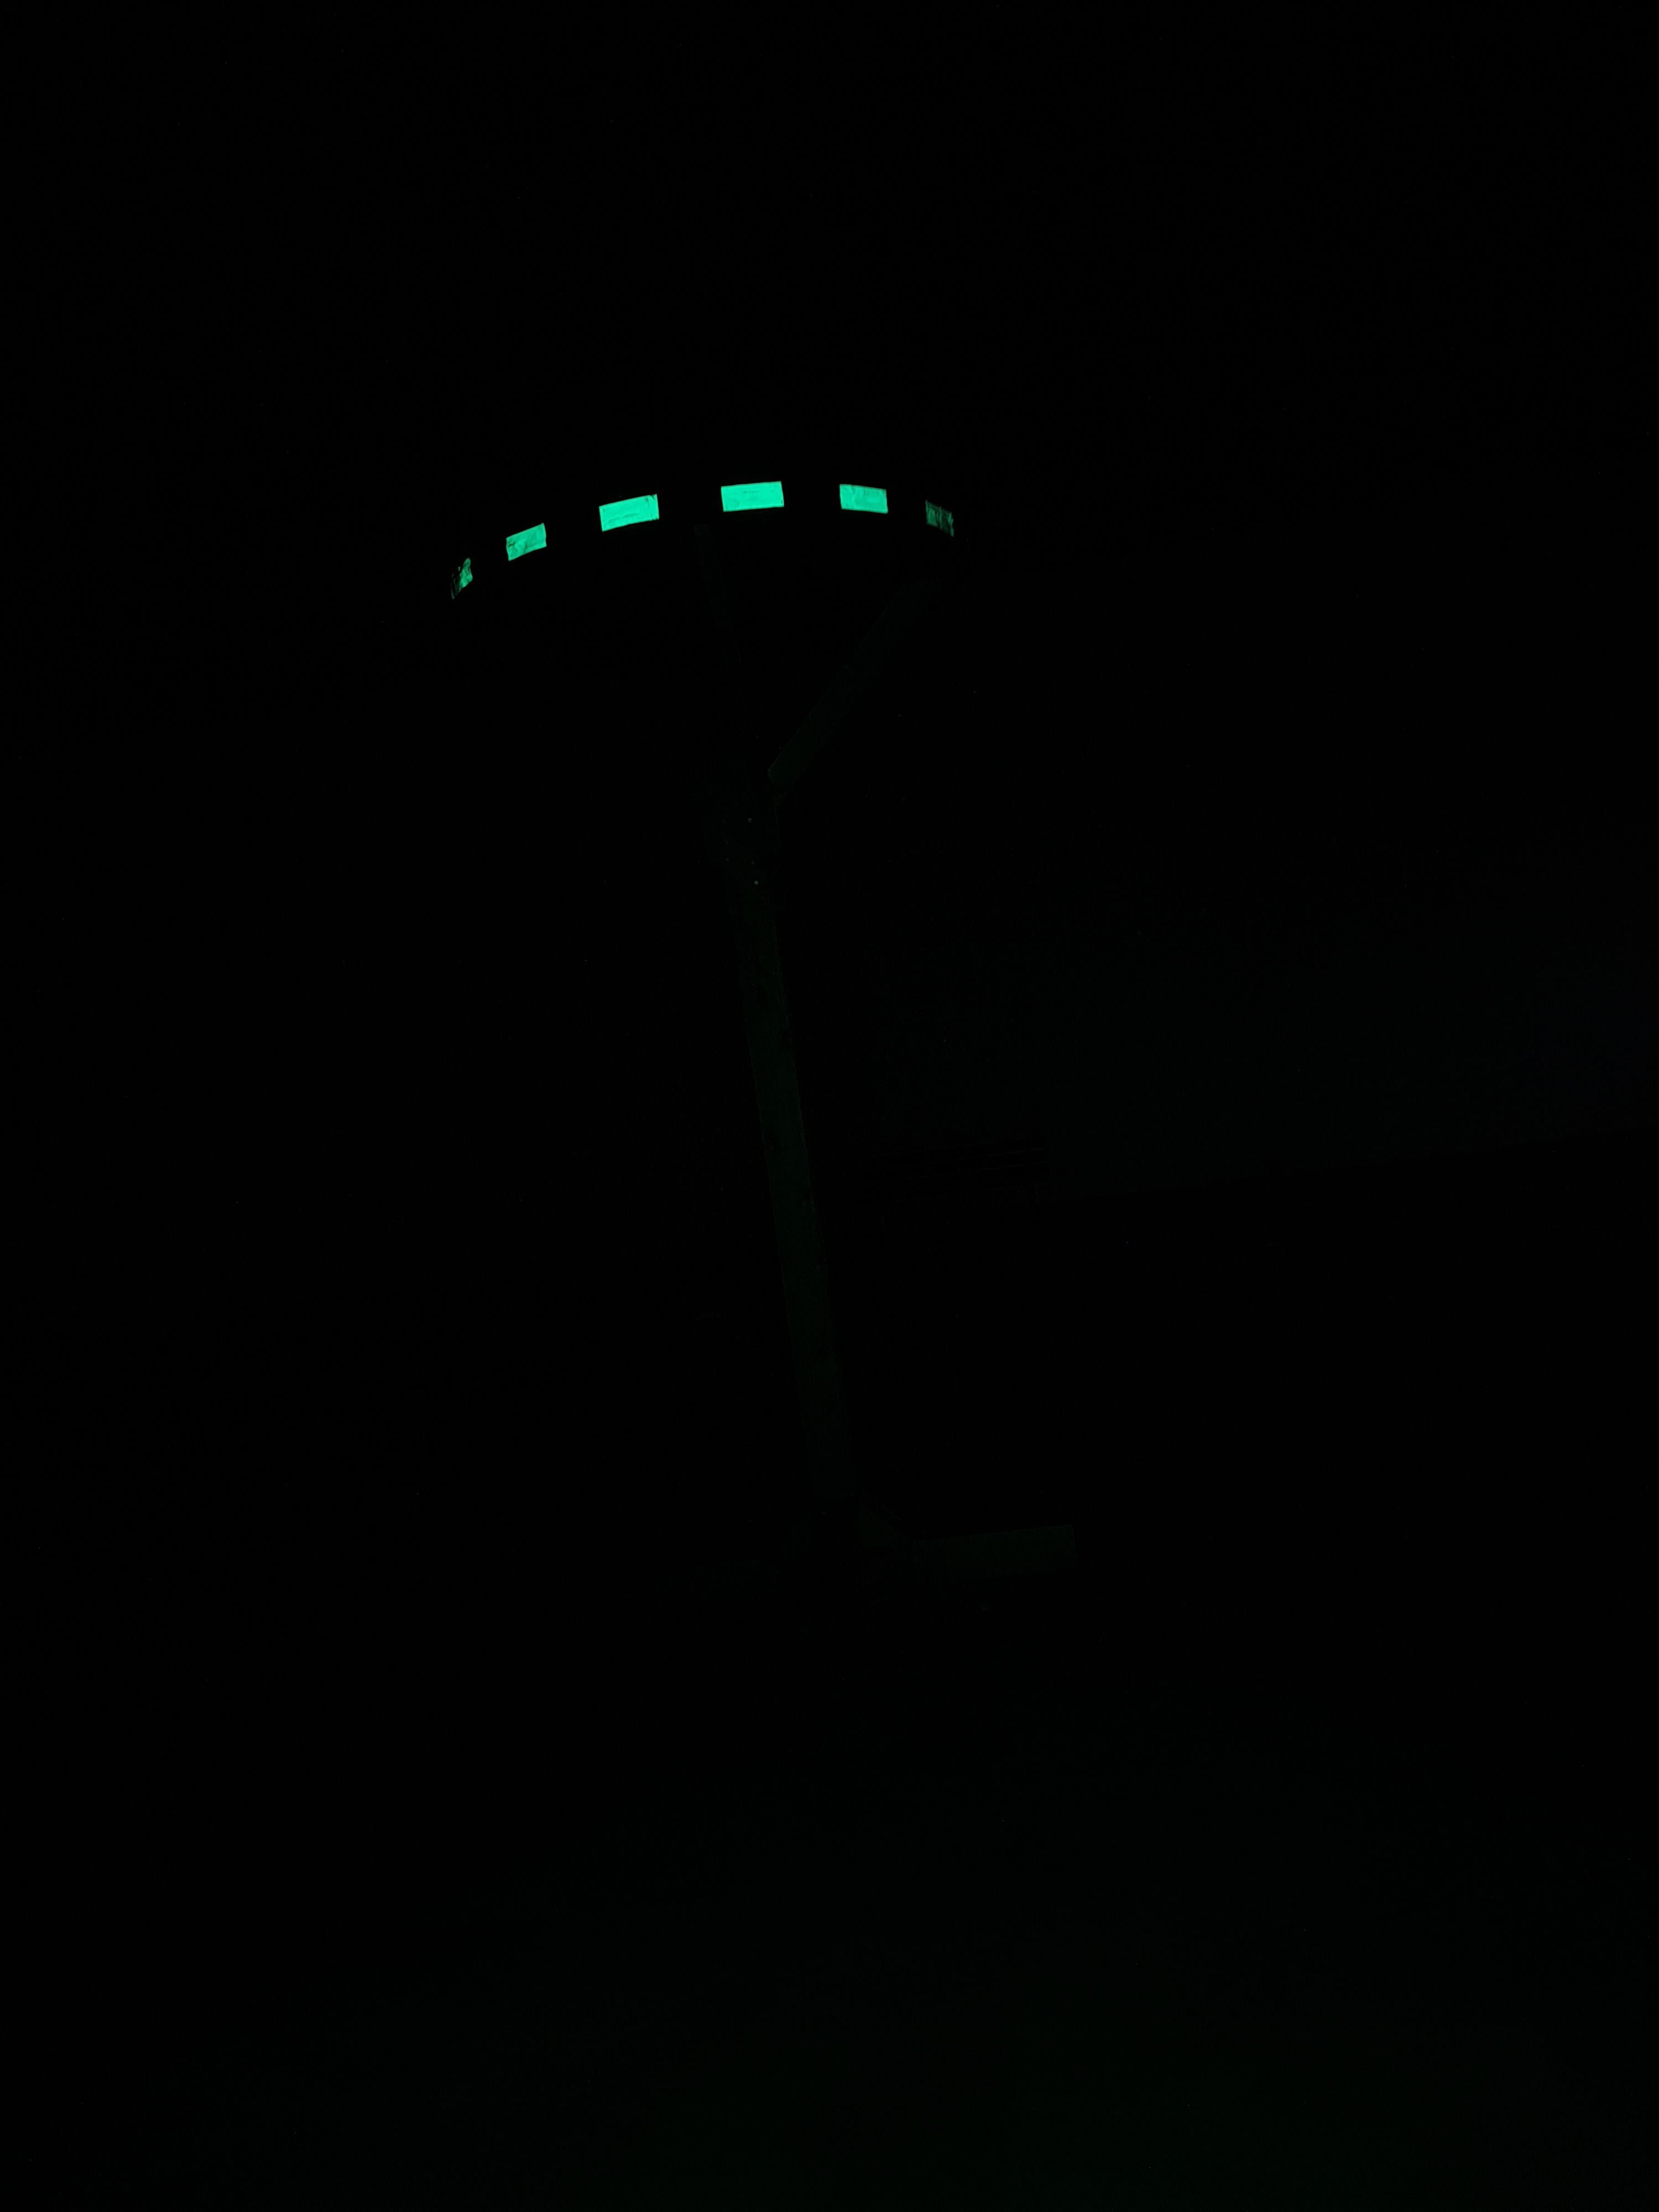hoop: (437, 475, 960, 606)
